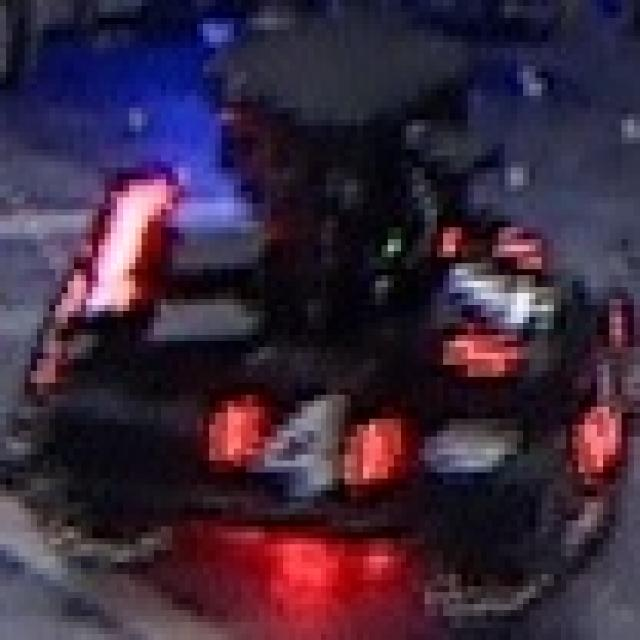R4: (203, 383, 394, 496)
